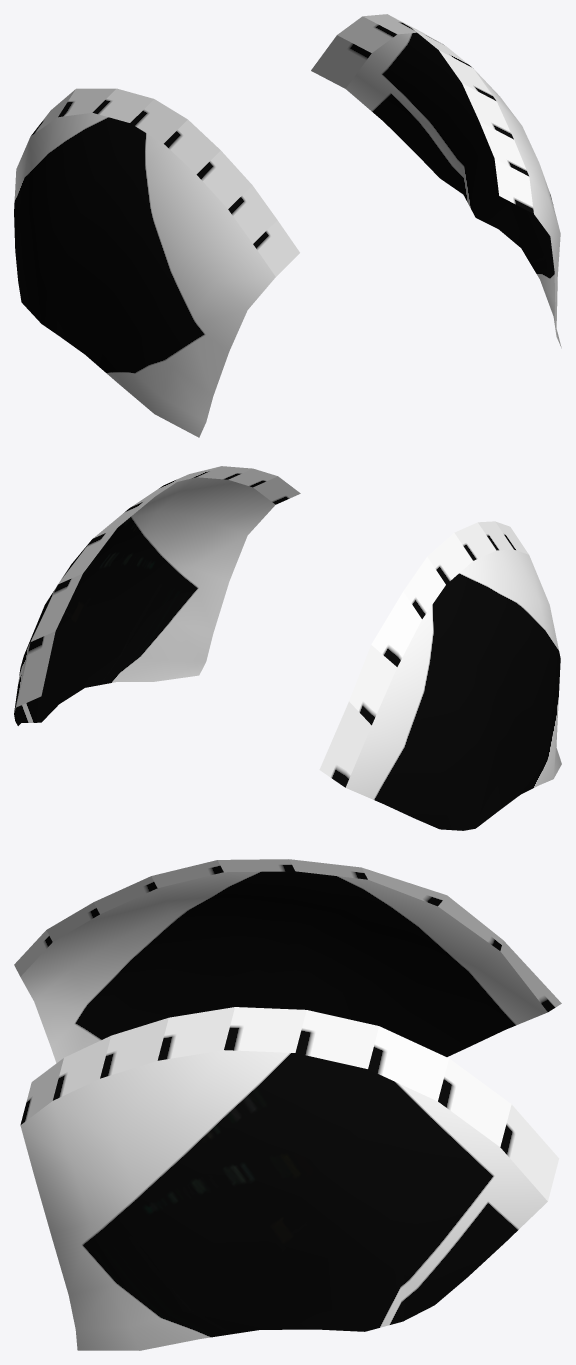
The model's file is Tattoo_SidePatch_Adheera.fbx.
The picture shows the model from 3 angles, top to bottom: view 1: azimuth 30°, elevation 25°; view 2: azimuth 150°, elevation 25°; view 3: azimuth 270°, elevation 25°; orthographic projection. The views are drawn at different scales.
Visible parts, largest first — view 1: polySurface14, polySurface13; view 2: polySurface14, polySurface13; view 3: polySurface13, polySurface14.
Part boxes in pixels (left/top/right/bottom): polySurface14: left=14, top=88, right=299, bottom=437; polySurface13: left=311, top=14, right=561, bottom=348; polySurface14: left=319, top=521, right=561, bottom=830; polySurface13: left=14, top=466, right=300, bottom=725; polySurface13: left=20, top=1007, right=559, bottom=1350; polySurface14: left=14, top=859, right=561, bottom=1063.
Bounding box in the file's own units: 15.72 × 8.87 × 14.16.
1 material, 1 textured.
